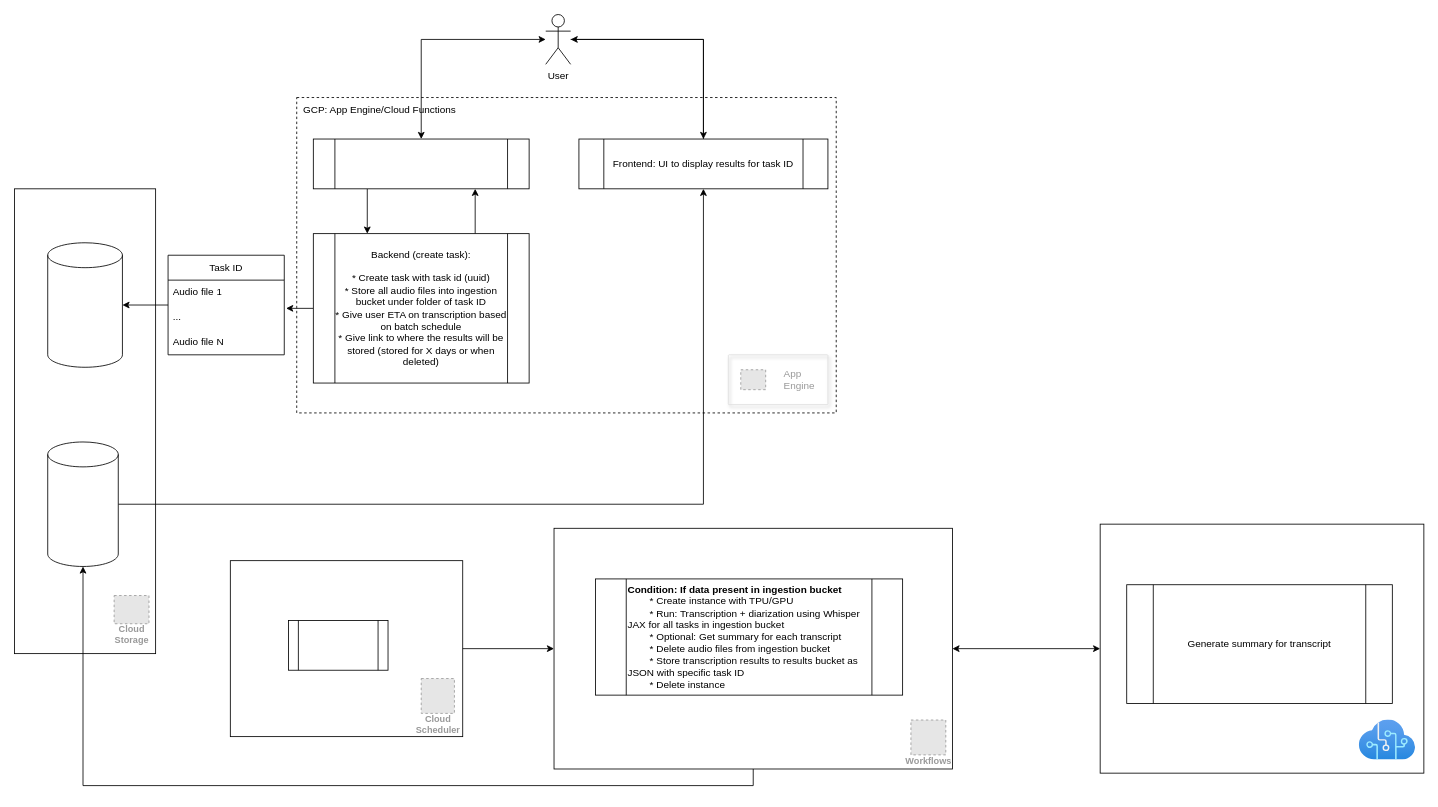
Some shapes in this 1438 by 807 pixel diagram are drawn without their labels. Grey dashed boxes stand in for pictures. Each missing label, with the centre of its shape:
Every N minutes/hours run workflow: the point at 338,645
Frontend: UI to upload audio files: the point at 420,163
Ingestion bucket: the point at 84,304
Results bucket: the point at 82,503
